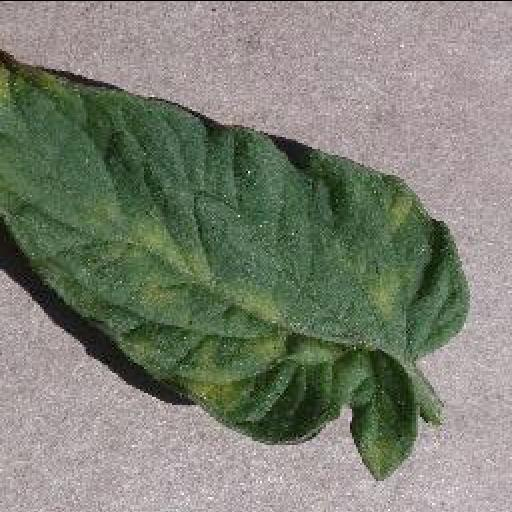disease_tomato: (0, 52, 470, 478)
